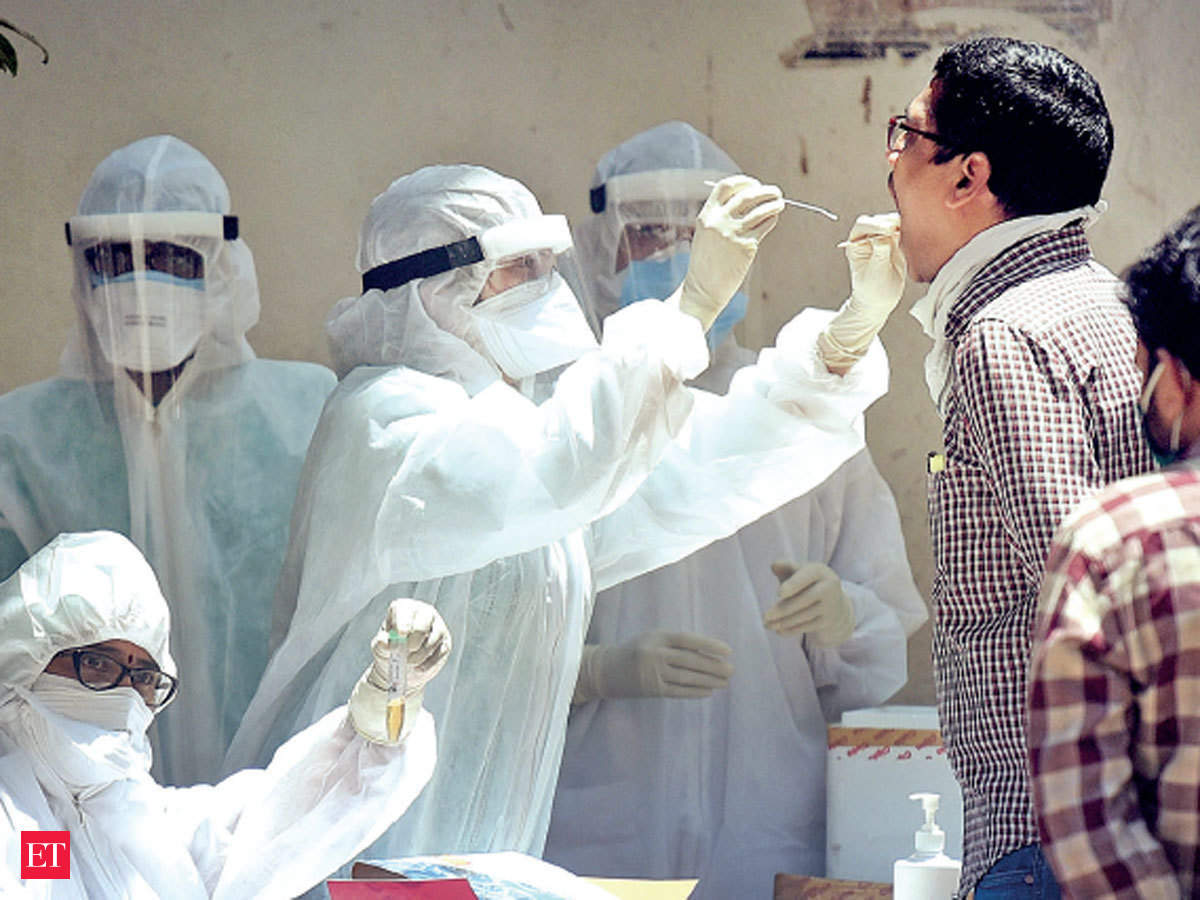Coverall: (214, 142, 881, 883), (530, 113, 904, 899), (1, 142, 356, 840), (1, 525, 416, 900), (69, 210, 236, 414)
Face_Shield: (458, 208, 601, 393)
Gloves: (351, 581, 458, 762), (677, 170, 782, 348), (811, 212, 908, 383), (577, 619, 742, 704), (759, 548, 867, 663)
with_mask: (35, 634, 159, 795), (84, 232, 209, 378), (614, 218, 749, 347), (488, 240, 595, 386)
without_mask: (874, 99, 963, 280)
